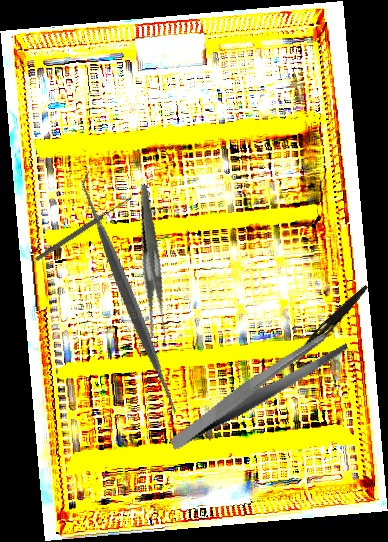Dressing Forceps: (154, 327, 362, 452), (108, 184, 199, 341), (288, 280, 370, 370)
Spatula Surgical: (0, 169, 258, 425)
Surgical Spoon: (33, 195, 134, 263)
